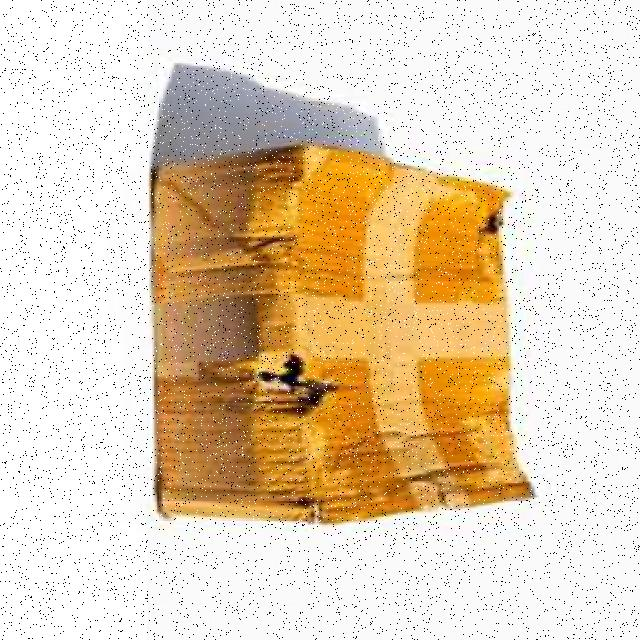defect: (143, 142, 535, 538)
